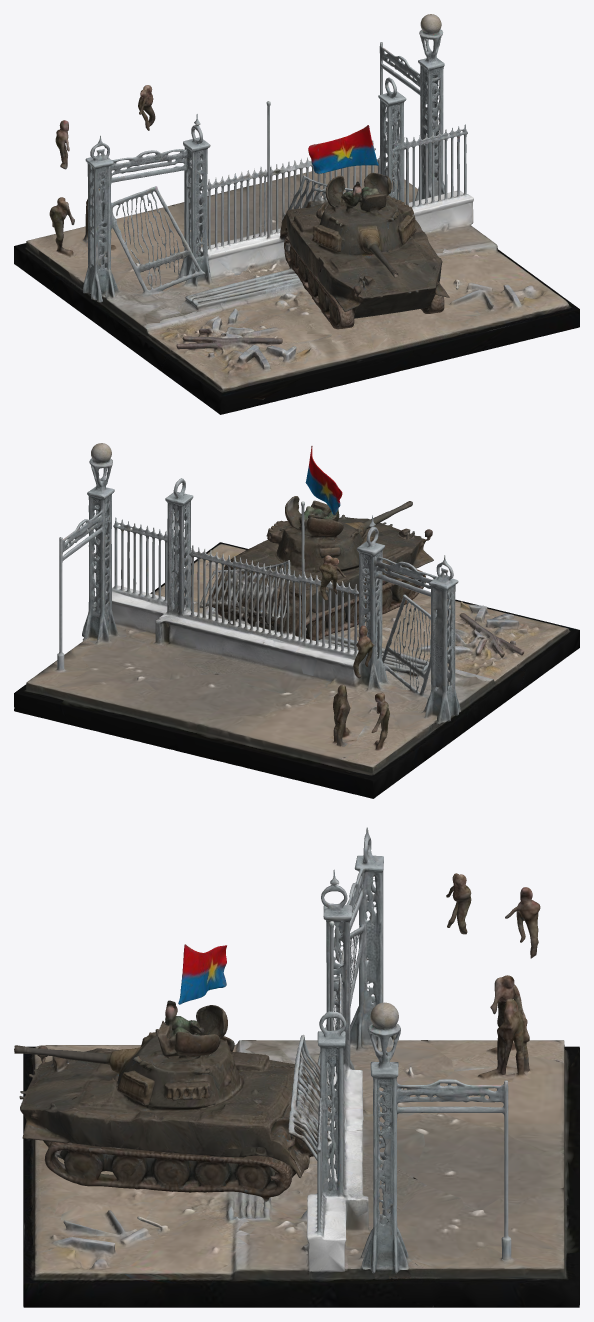
Rendered from cong_dinh_doc_lap.glb.
3 renders of one model, top to bottom at view 1: azimuth 30°, elevation 25°; view 2: azimuth 150°, elevation 25°; view 3: azimuth 270°, elevation 25°, orthographic. The views are drawn at different scales.
Visible parts, largest first — view 1: Mesh_0; view 2: Mesh_0; view 3: Mesh_0.
Part boxes in pixels (box(x1,y1,x2,y2)): Mesh_0: box(14, 14, 579, 414); Mesh_0: box(14, 443, 579, 798); Mesh_0: box(14, 827, 579, 1307).
Size of the model in its own units: 1.68 by 0.9625 by 1.68.
Materials: 1 (1 with a texture image).
